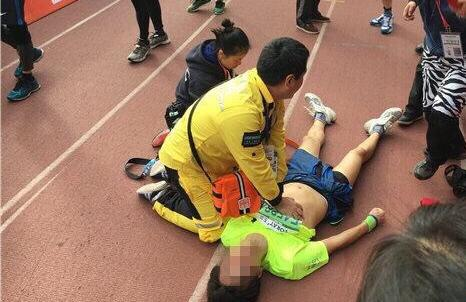fall: (186, 82, 387, 302)
